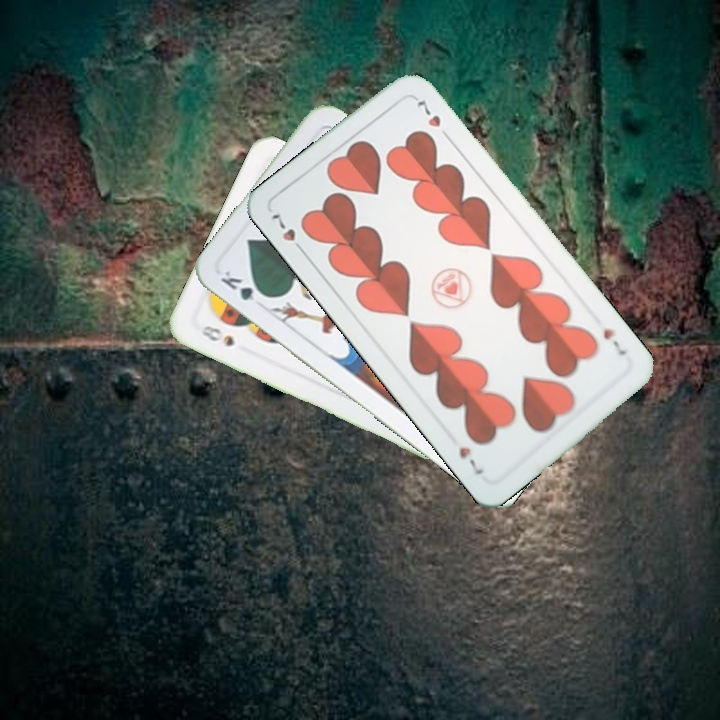GK: (217, 265, 271, 306)
H7: (266, 207, 309, 257), (599, 324, 629, 359)
S8: (196, 321, 237, 349)
